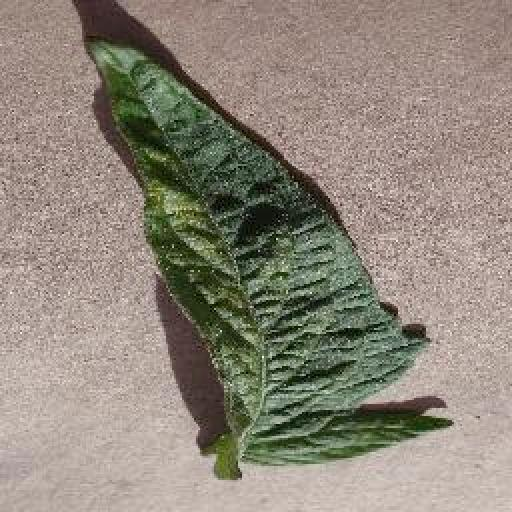disease_tomato: (87, 39, 452, 481)
